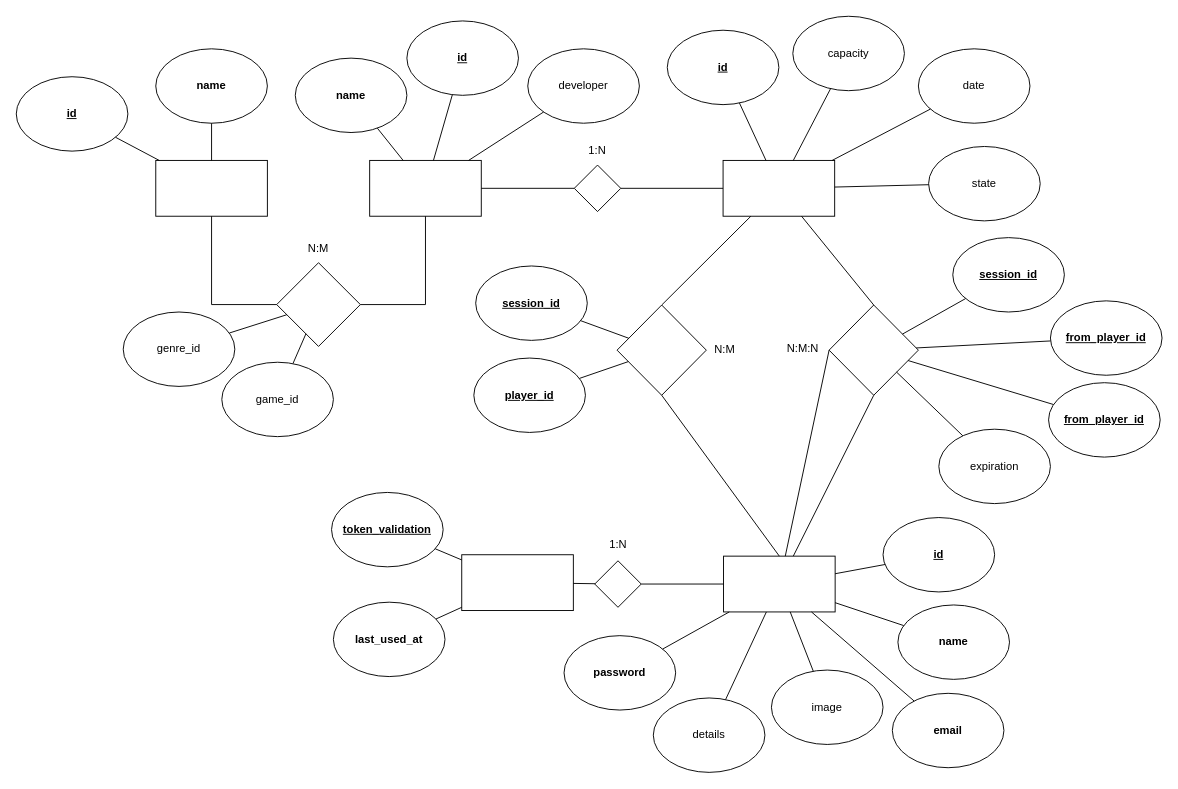
This 1178x789 diagram has some shape labels left out. The shapes that lost their labels are listed below. From the top down, each one's centre as x and y in pixels, then its label:
At (211,187): "Genres".
At (425,187): "Games".
At (778,187): "Sessions".
At (318,304): "games_genres".
At (661,349): "players_sesions".
At (873,349): "players_invites".
At (517,582): "Tokens".
At (779,583): "Players".
